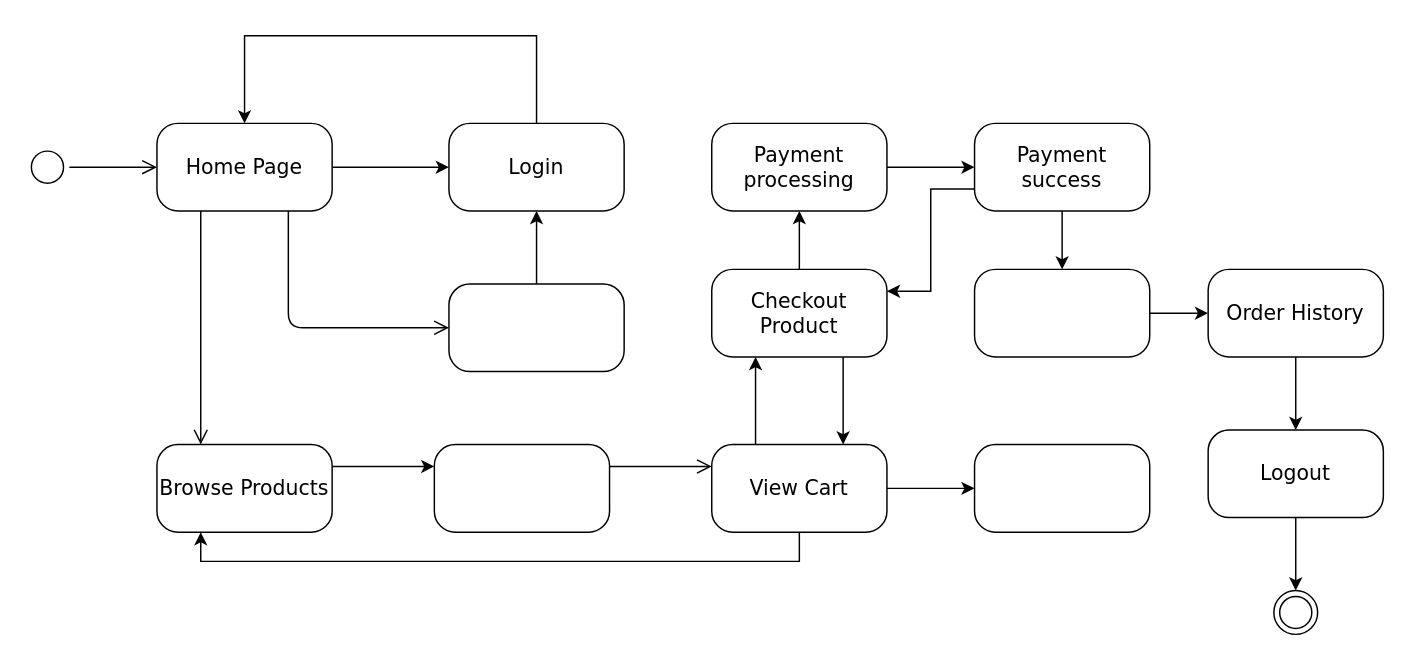
The diagram is 1409 pixels wide and 660 high, and some of its shapes have lost their labels. Here are the shapes that lost their labels. From the top down, the centre of each, then its label:
point 535,327: New Registration
point 1061,312: Order Confirmation
point 521,487: Adding to cart
point 1061,487: Remove from cart
